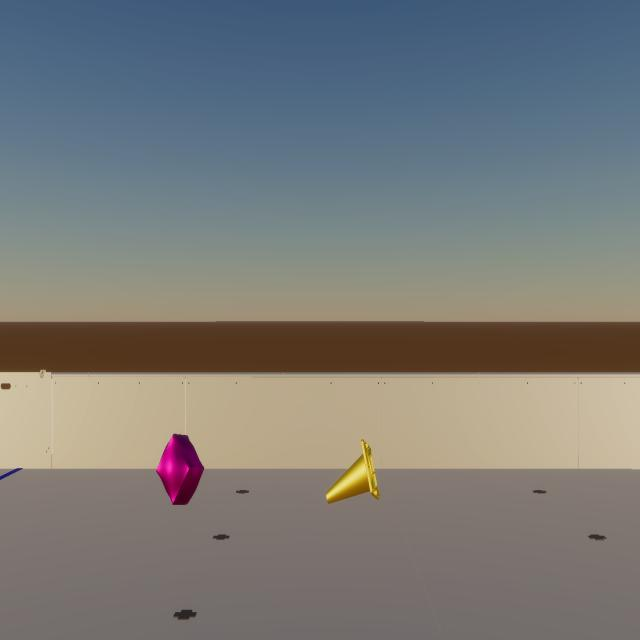frc_cone: (326, 439, 380, 504)
frc_cube: (156, 434, 204, 505)
